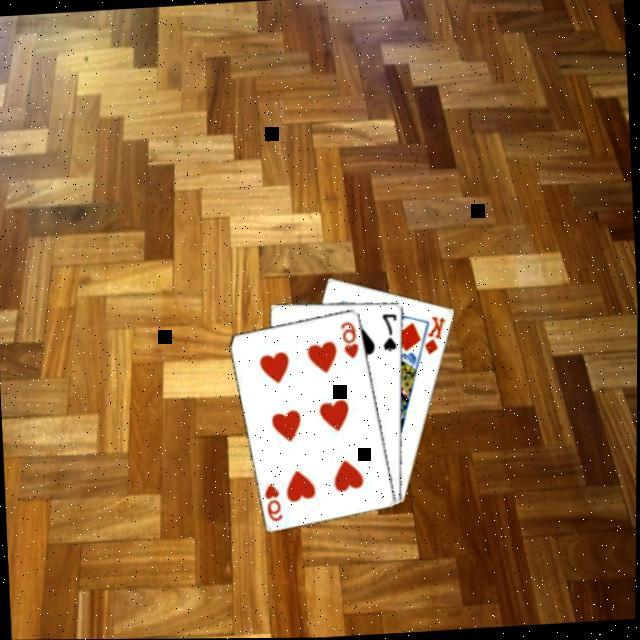6H: (340, 317, 364, 360), (264, 480, 288, 523)
7S: (382, 310, 404, 353)
KD: (423, 312, 451, 357)
